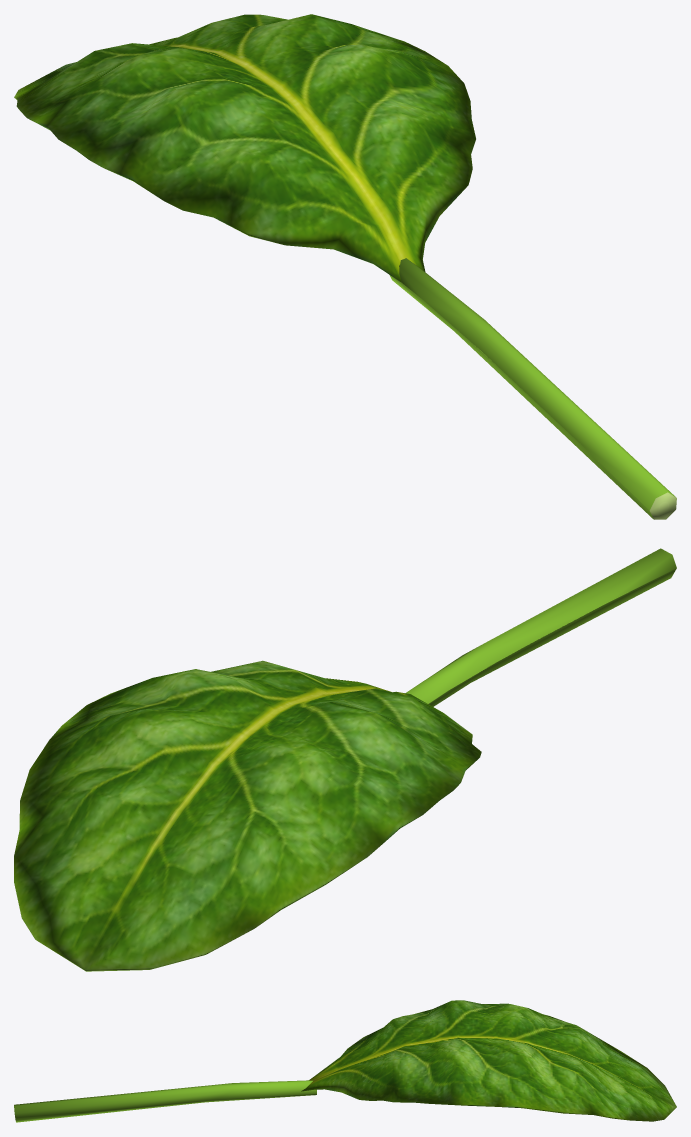
File: NP_Spinach_LooseLeaf_LOD1.fbx
The picture shows the model from 3 angles, top to bottom: view 1: azimuth 30°, elevation 25°; view 2: azimuth 150°, elevation 25°; view 3: azimuth 270°, elevation 25°; orthographic projection. The views are drawn at different scales.
Parts seen in each view (by area): view 1: NP_Spinach_LooseLeaf.001; view 2: NP_Spinach_LooseLeaf.001; view 3: NP_Spinach_LooseLeaf.001.
Boxes of the visible parts, x1,y1,x2,y2 form: NP_Spinach_LooseLeaf.001: (14,14,676,519); NP_Spinach_LooseLeaf.001: (14,548,676,971); NP_Spinach_LooseLeaf.001: (14,1000,676,1122).
Bounding box in the file's own units: 21.92 × 9.57 × 60.21.
